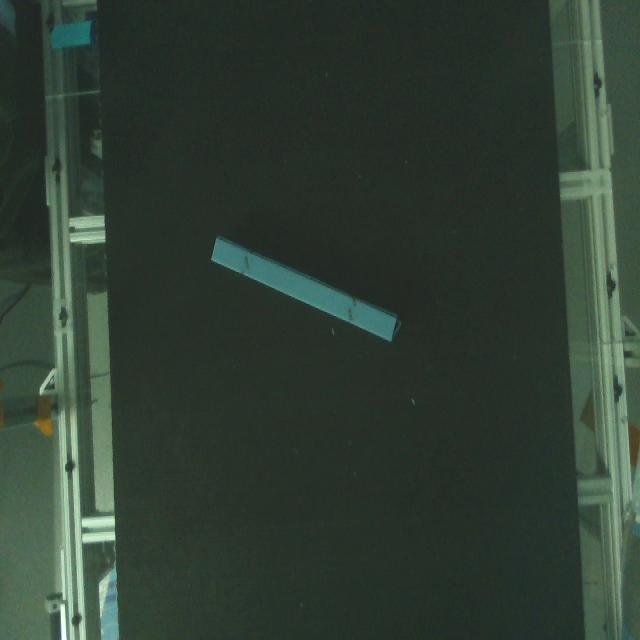paper: (202, 230, 406, 344)
